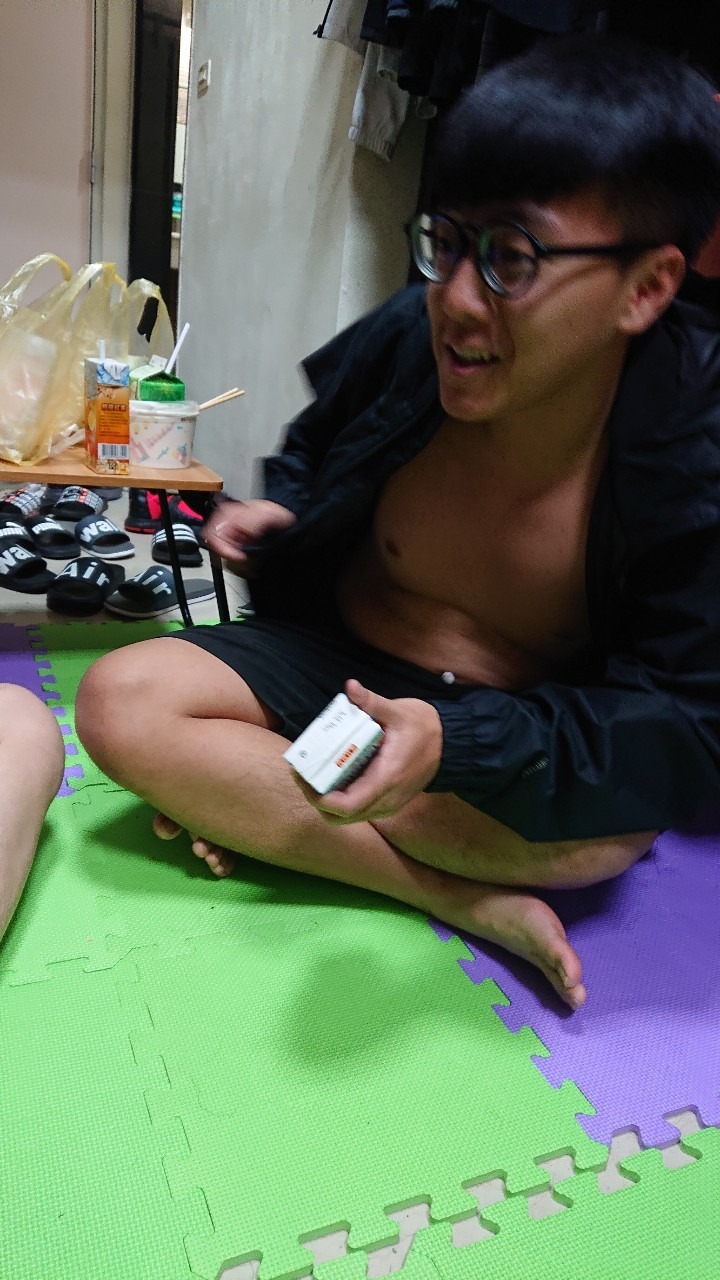people: (214, 51, 716, 992)
